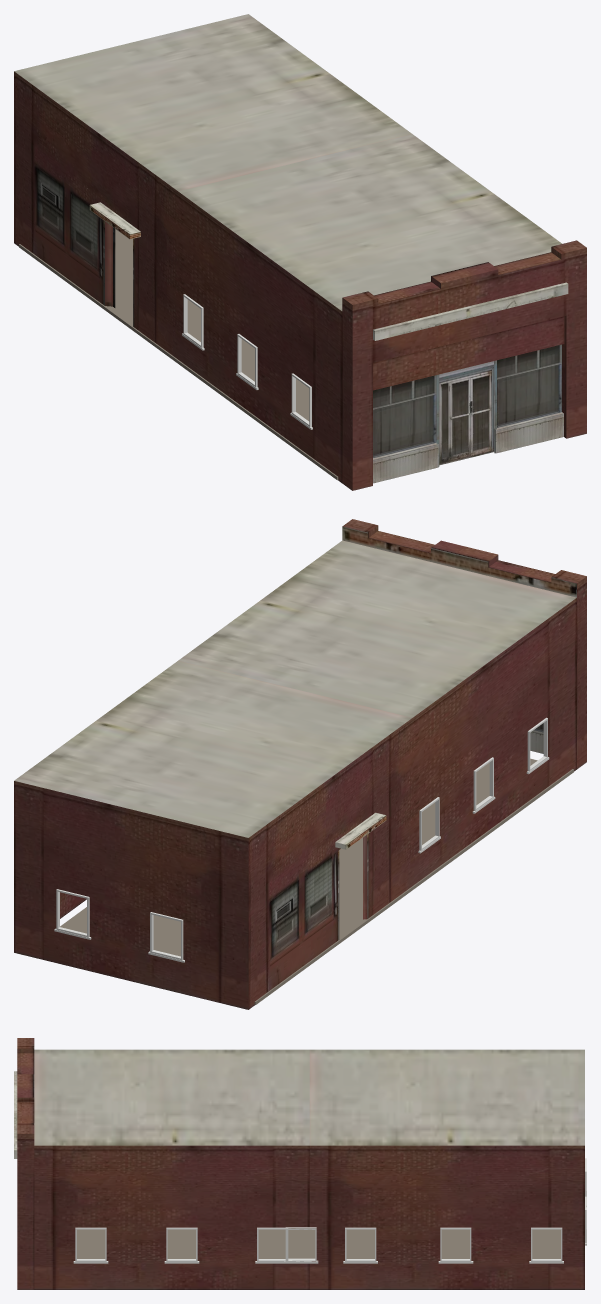
File: rural-store-5.zfix-v21.lod0.glb
3 views of the same model, one above another, from view 1: azimuth 30°, elevation 25°; view 2: azimuth 150°, elevation 25°; view 3: azimuth 270°, elevation 25° (orthographic). The views are drawn at different scales.
Visible parts, largest first — view 1: Rural_StoreSmall_5_Rural_Facade_FLR_2_0, Rural_StoreSmall_5_Rural_Brownstone_Facade_Flr_6_0, Walkable floors and stairs, Window trim; view 2: Rural_StoreSmall_5_Rural_Brownstone_Facade_Flr_6_0, Rural_StoreSmall_5_Rural_Facade_FLR_2_0, Walkable floors and stairs, Window trim; view 3: Rural_StoreSmall_5_Rural_Brownstone_Facade_Flr_6_0, Rural_StoreSmall_5_Rural_Facade_FLR_2_0, Walkable floors and stairs, Window trim.
Boxes of the visible parts, bbox=[...] form: Rural_StoreSmall_5_Rural_Facade_FLR_2_0: bbox=[14, 14, 568, 483]; Rural_StoreSmall_5_Rural_Brownstone_Facade_Flr_6_0: bbox=[14, 71, 586, 490]; Walkable floors and stairs: bbox=[19, 229, 338, 479]; Window trim: bbox=[182, 294, 312, 429]; Rural_StoreSmall_5_Rural_Brownstone_Facade_Flr_6_0: bbox=[14, 519, 586, 1009]; Rural_StoreSmall_5_Rural_Facade_FLR_2_0: bbox=[14, 526, 576, 919]; Walkable floors and stairs: bbox=[60, 758, 573, 1004]; Window trim: bbox=[54, 717, 549, 962]; Rural_StoreSmall_5_Rural_Brownstone_Facade_Flr_6_0: bbox=[17, 1038, 584, 1289]; Rural_StoreSmall_5_Rural_Facade_FLR_2_0: bbox=[14, 1049, 584, 1158]; Walkable floors and stairs: bbox=[77, 1228, 560, 1258]; Window trim: bbox=[73, 1158, 586, 1263].
Bounding box in the file's own units: 8.46 × 6.06 × 20.19.
Materials: 4 (2 with a texture image).
